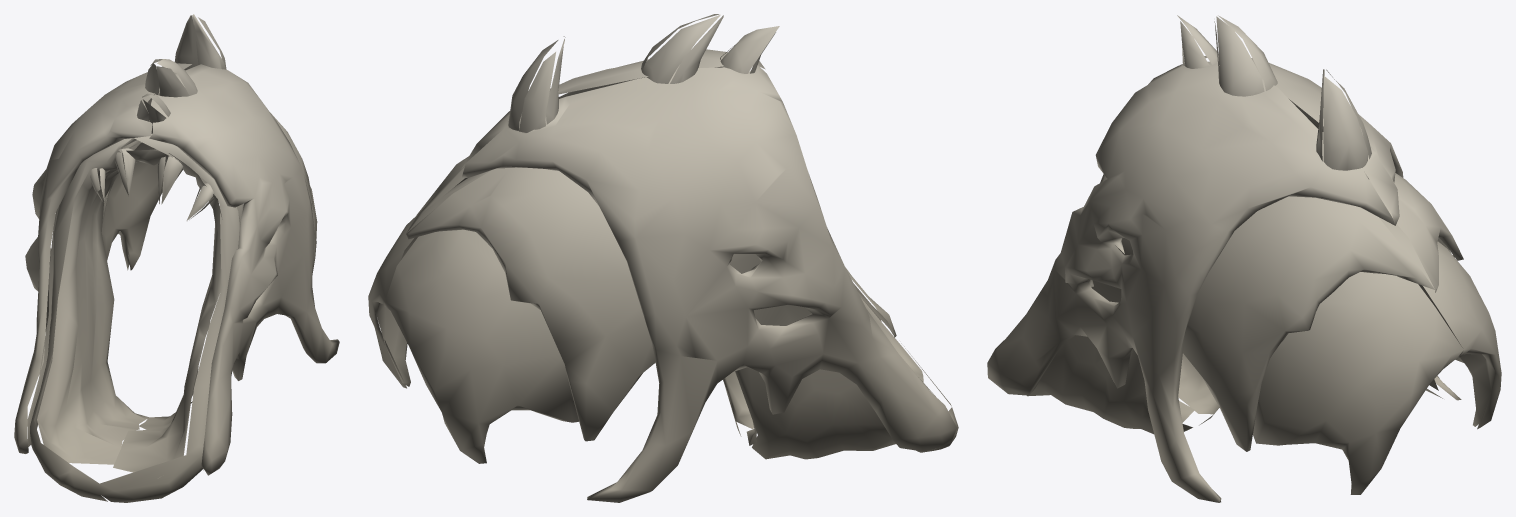
The model's file is lb_shell_cage.glb.
The picture shows the model from 3 angles, left to right: view 1: azimuth 30°, elevation 25°; view 2: azimuth 150°, elevation 25°; view 3: azimuth 270°, elevation 25°; orthographic projection. The views are drawn at different scales.
Visible parts, largest first — view 1: geometry_0; view 2: geometry_0; view 3: geometry_0.
Boxes of the visible parts, x1,y1,x2,y2 form: geometry_0: (14, 14, 339, 502); geometry_0: (368, 14, 958, 502); geometry_0: (987, 15, 1501, 502).
Bounding box in the file's own units: 10.51 × 9.75 × 10.51.
